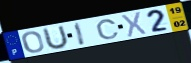2: (146, 8, 172, 35)
C: (95, 19, 121, 40)
I: (73, 21, 87, 47)
O: (21, 30, 46, 54)
U: (42, 24, 70, 52)
X: (121, 11, 149, 39)
